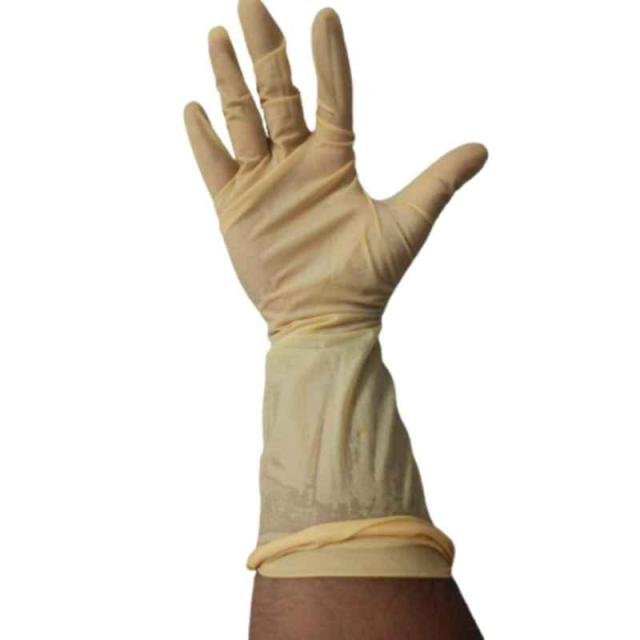Gloves: (179, 9, 502, 472)
